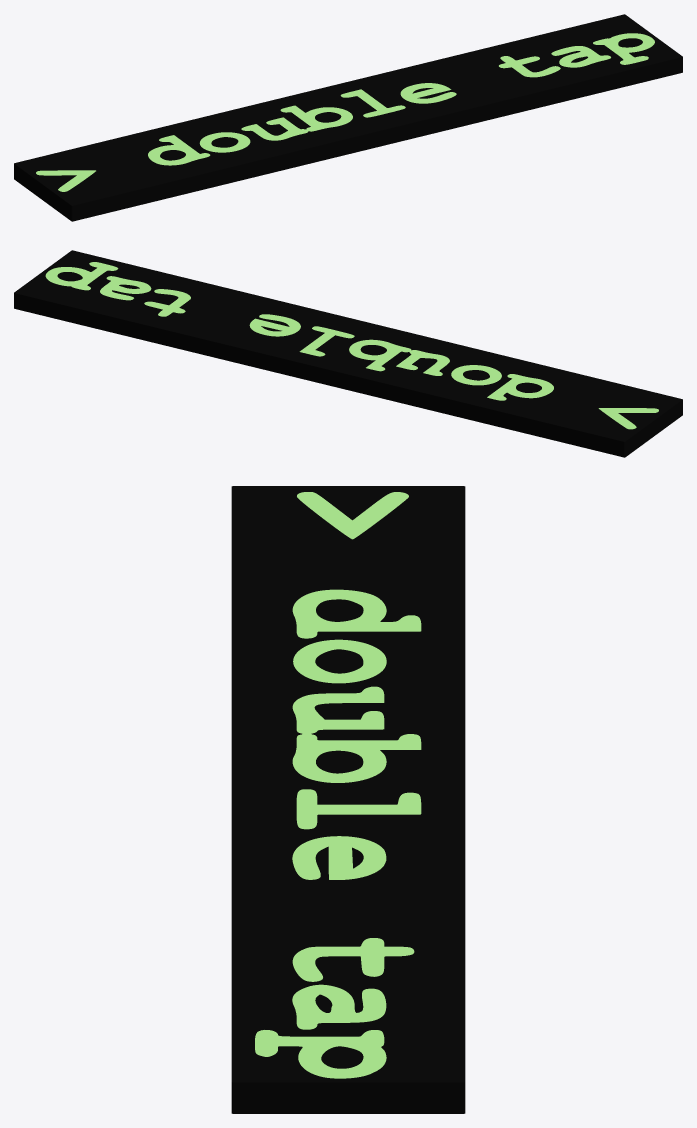
File: float_text.glb
3 renders of one model, top to bottom at view 1: azimuth 30°, elevation 25°; view 2: azimuth 150°, elevation 25°; view 3: azimuth 270°, elevation 25°, orthographic. The views are drawn at different scales.
Visible parts, largest first — view 1: imagetostl_mesh1, imagetostl_mesh0, imagetostl_mesh15, imagetostl_mesh17, imagetostl_mesh19, imagetostl_mesh23, imagetostl_mesh25, imagetostl_mesh21, imagetostl_mesh27, imagetostl_mesh29, imagetostl_mesh31; view 2: imagetostl_mesh1, imagetostl_mesh0, imagetostl_mesh15, imagetostl_mesh17, imagetostl_mesh19, imagetostl_mesh23, imagetostl_mesh25, imagetostl_mesh21, imagetostl_mesh27, imagetostl_mesh29, imagetostl_mesh31; view 3: imagetostl_mesh1, imagetostl_mesh0, imagetostl_mesh15, imagetostl_mesh17, imagetostl_mesh19, imagetostl_mesh23, imagetostl_mesh25, imagetostl_mesh21, imagetostl_mesh27, imagetostl_mesh29, imagetostl_mesh31, imagetostl_mesh3.
Boxes of the visible parts, box(x1,y1,x2,y2) form: imagetostl_mesh1: box(14, 14, 682, 205); imagetostl_mesh0: box(14, 38, 682, 221); imagetostl_mesh15: box(241, 105, 352, 140); imagetostl_mesh17: box(593, 33, 654, 64); imagetostl_mesh19: box(148, 135, 210, 165); imagetostl_mesh23: box(400, 83, 456, 103); imagetostl_mesh25: box(551, 46, 610, 67); imagetostl_mesh21: box(199, 132, 250, 152); imagetostl_mesh27: box(499, 56, 560, 77); imagetostl_mesh29: box(340, 89, 405, 117); imagetostl_mesh31: box(36, 170, 95, 191); imagetostl_mesh1: box(14, 250, 682, 441); imagetostl_mesh0: box(14, 293, 682, 457); imagetostl_mesh15: box(349, 339, 449, 375); imagetostl_mesh17: box(45, 262, 118, 290); imagetostl_mesh19: box(487, 374, 553, 400); imagetostl_mesh23: box(249, 314, 300, 336); imagetostl_mesh25: box(100, 276, 151, 300); imagetostl_mesh21: box(451, 365, 501, 385); imagetostl_mesh27: box(144, 289, 190, 316); imagetostl_mesh29: box(299, 326, 354, 356); imagetostl_mesh31: box(598, 408, 658, 429); imagetostl_mesh1: box(231, 486, 465, 1082); imagetostl_mesh0: box(231, 520, 465, 1113); imagetostl_mesh15: box(292, 686, 421, 782); imagetostl_mesh17: box(255, 1030, 386, 1078); imagetostl_mesh19: box(292, 589, 421, 638); imagetostl_mesh23: box(292, 836, 386, 879); imagetostl_mesh25: box(292, 984, 386, 1029); imagetostl_mesh21: box(293, 639, 386, 683); imagetostl_mesh27: box(292, 938, 414, 981); imagetostl_mesh29: box(296, 789, 421, 829); imagetostl_mesh31: box(297, 492, 408, 539); imagetostl_mesh3: box(315, 649, 363, 673).
Size of the model in its own units: 204 by 5 by 33.67.
